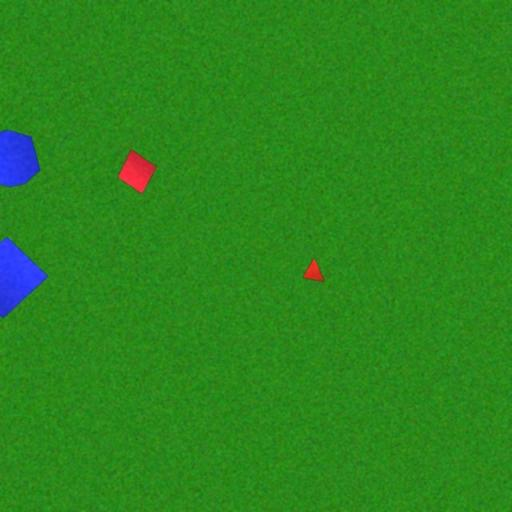BLUE_SQUARE: (0, 236, 49, 319)
RED_SQUARE: (116, 148, 158, 194)
